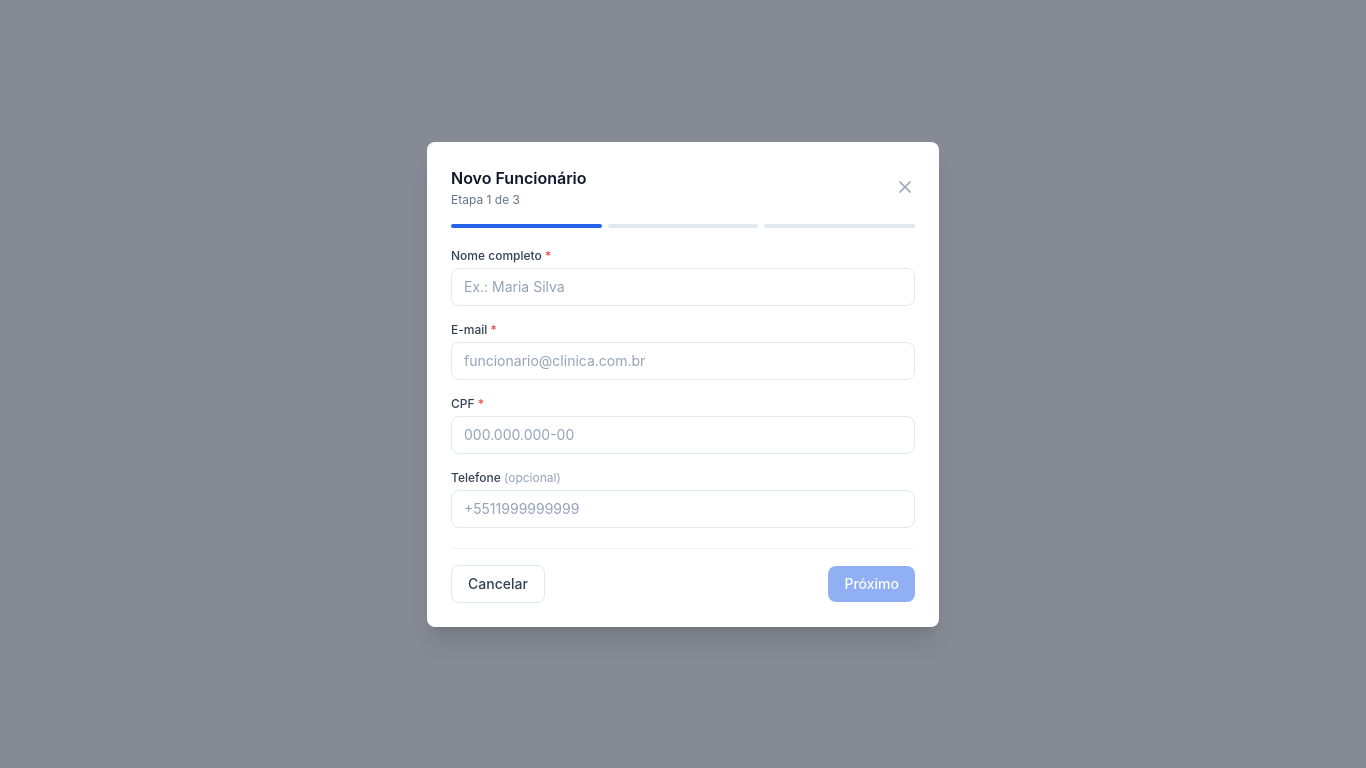
it: AddEmployeeModal › step 2 blocks Próximo with clinical role and missing council
The image size is (1366, 768).
Type "Ana Lima" into the field labelled "Nome completo *" at (683, 286), box x1=451 y1=268 x2=915 y2=306
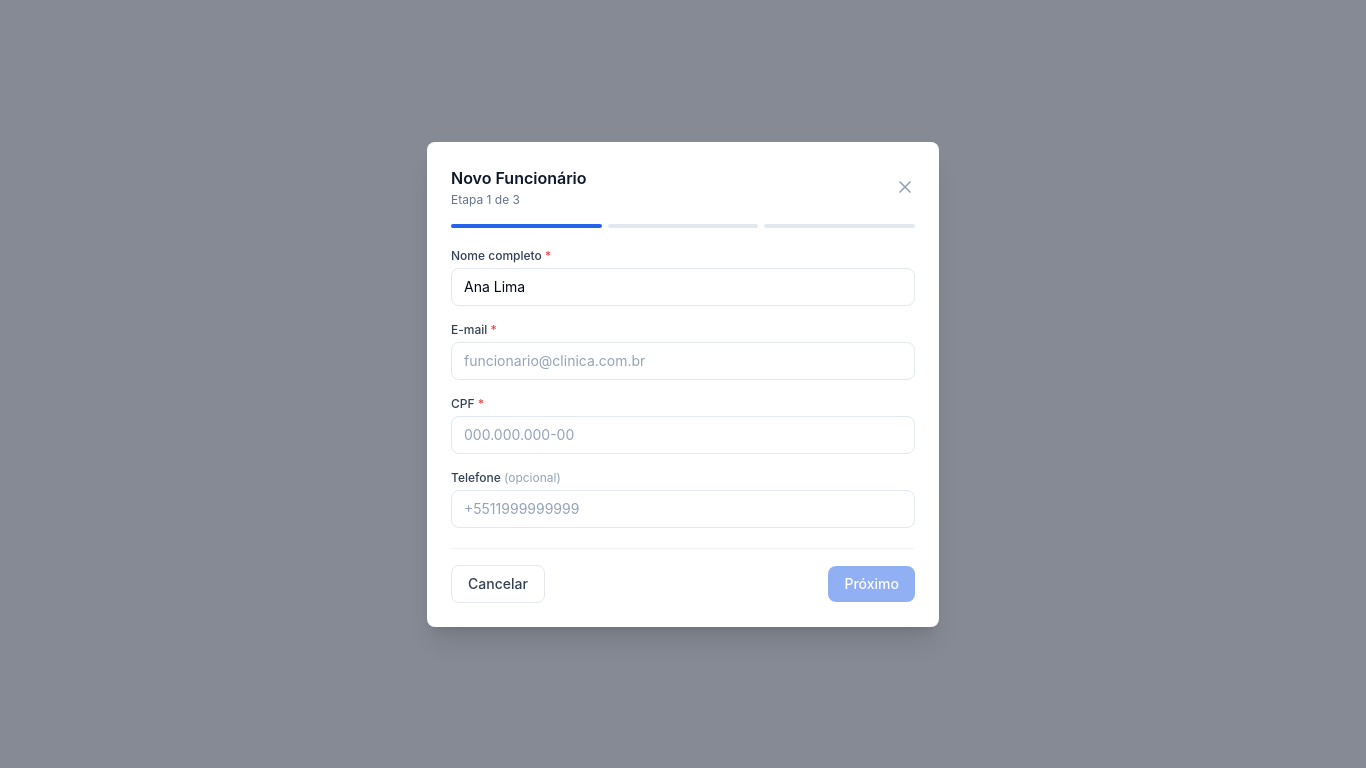
Type "ana@clinica.com.br" into the field labelled "E-mail *" at (683, 360), box x1=451 y1=342 x2=915 y2=380
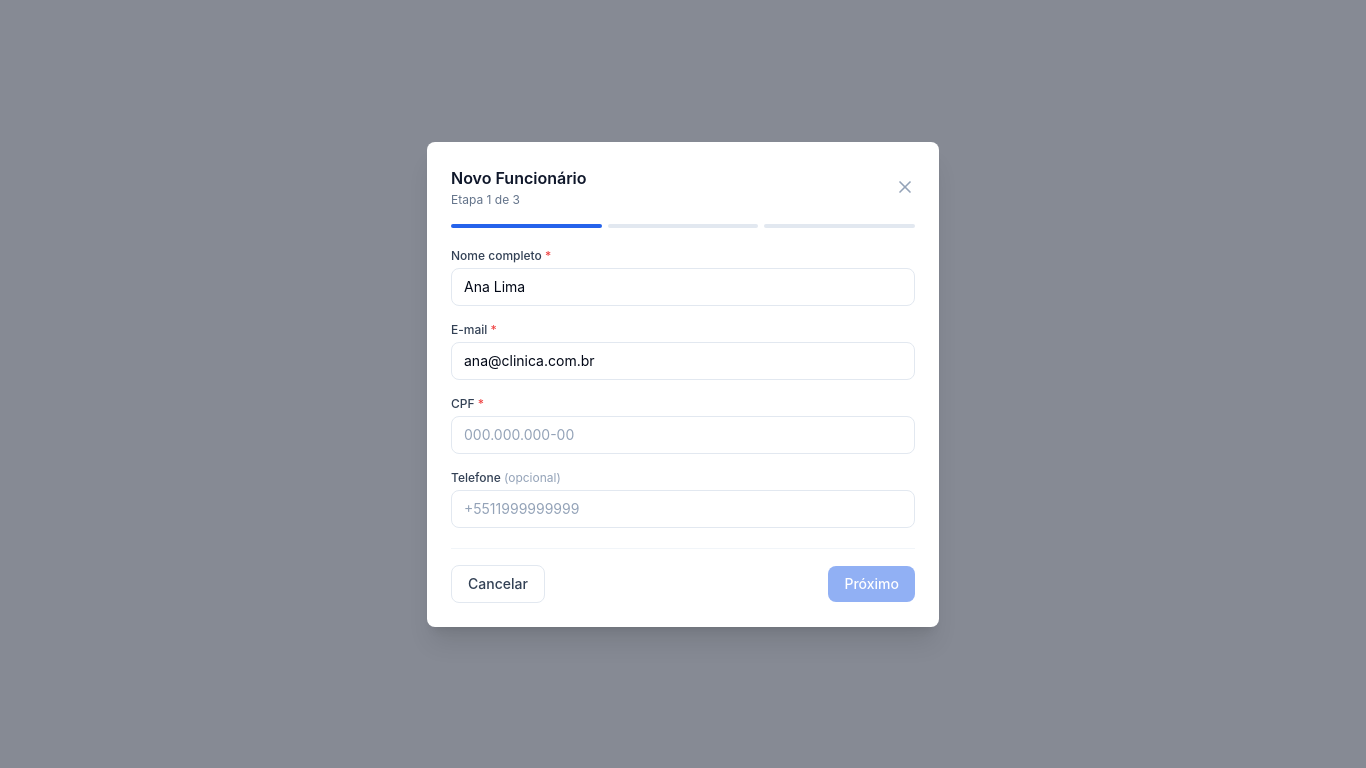
Type "12345678901" into the field labelled "CPF *" at (683, 434), box x1=451 y1=416 x2=915 y2=454
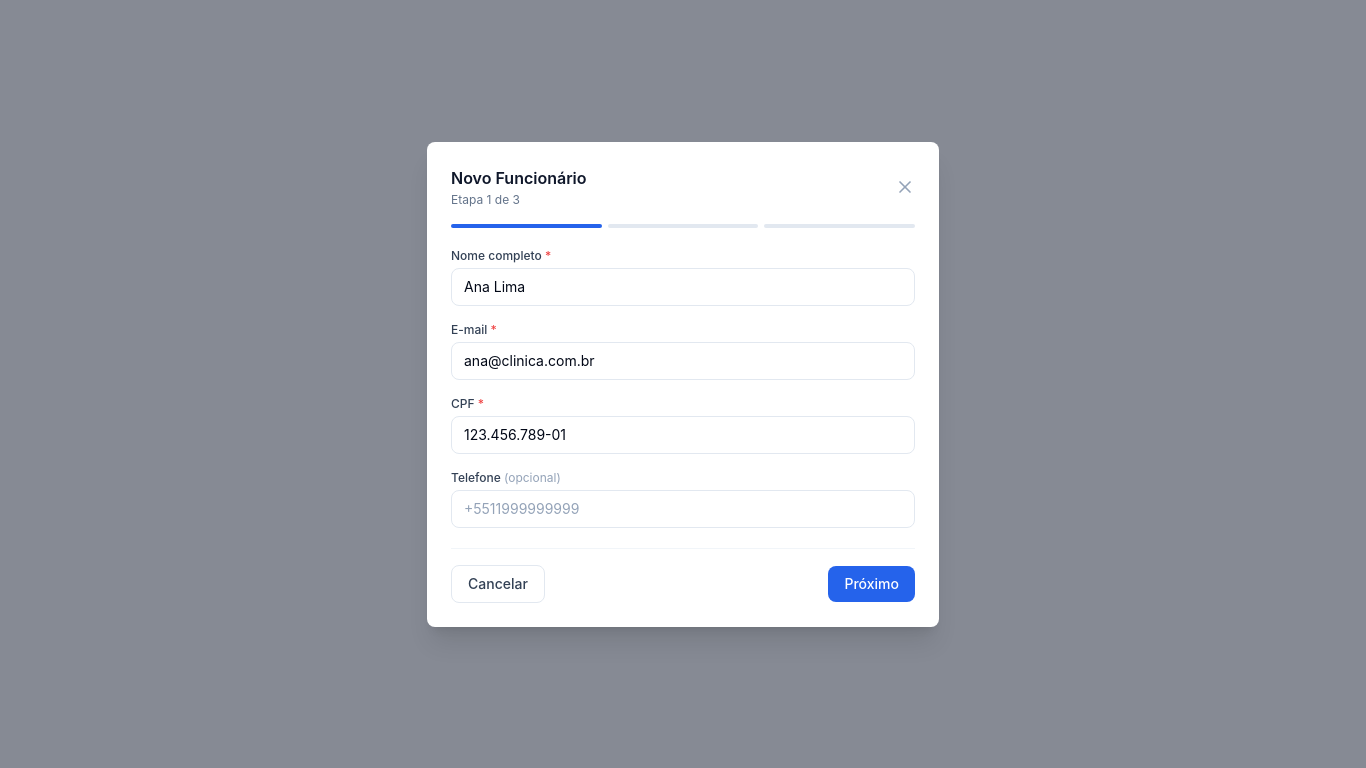
Check: the button "Próximo" is enabled
Click the button "Próximo" at (872, 584), box x1=828 y1=566 x2=915 y2=602
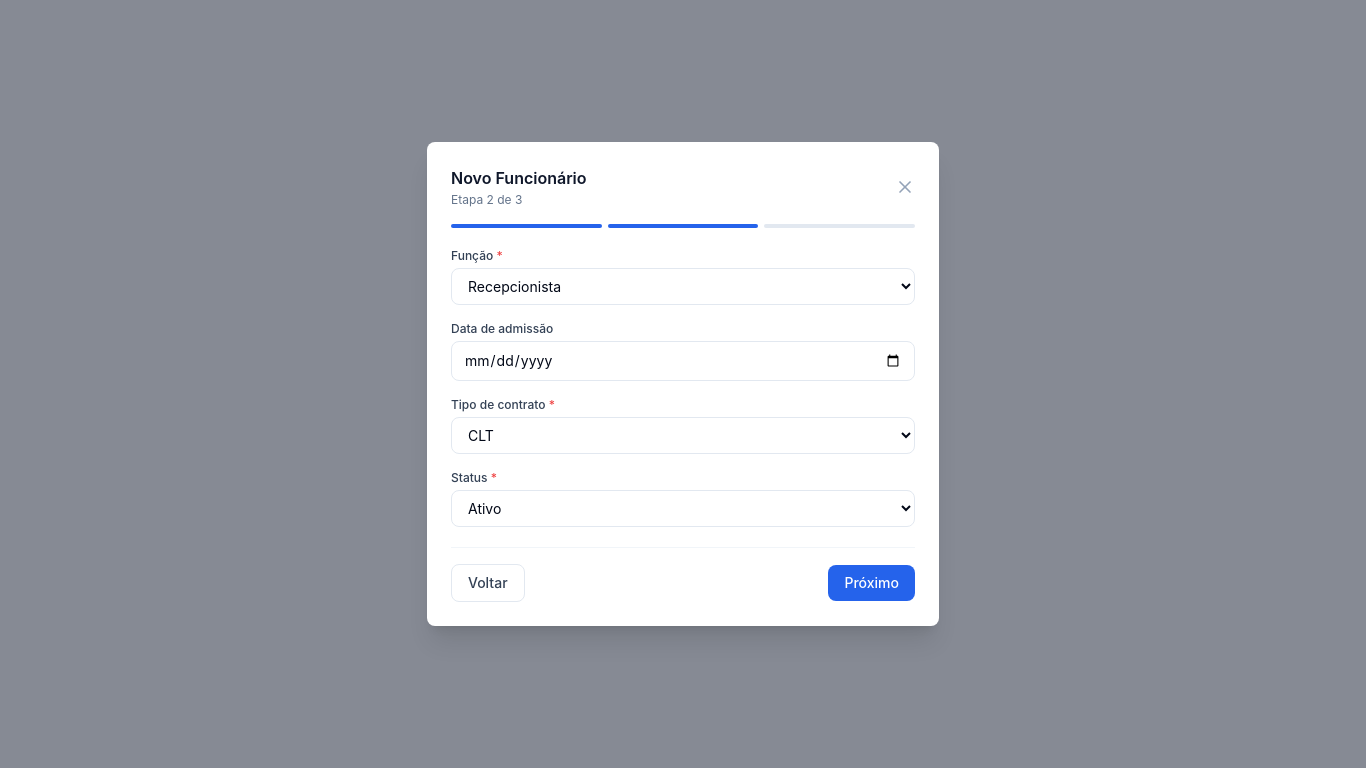
Check: the text "Etapa 2 de 3" is shown, box x1=451 y1=192 x2=522 y2=207
Select "Médico" in the dropdown labelled "Função *" at (683, 286), box x1=451 y1=268 x2=915 y2=305
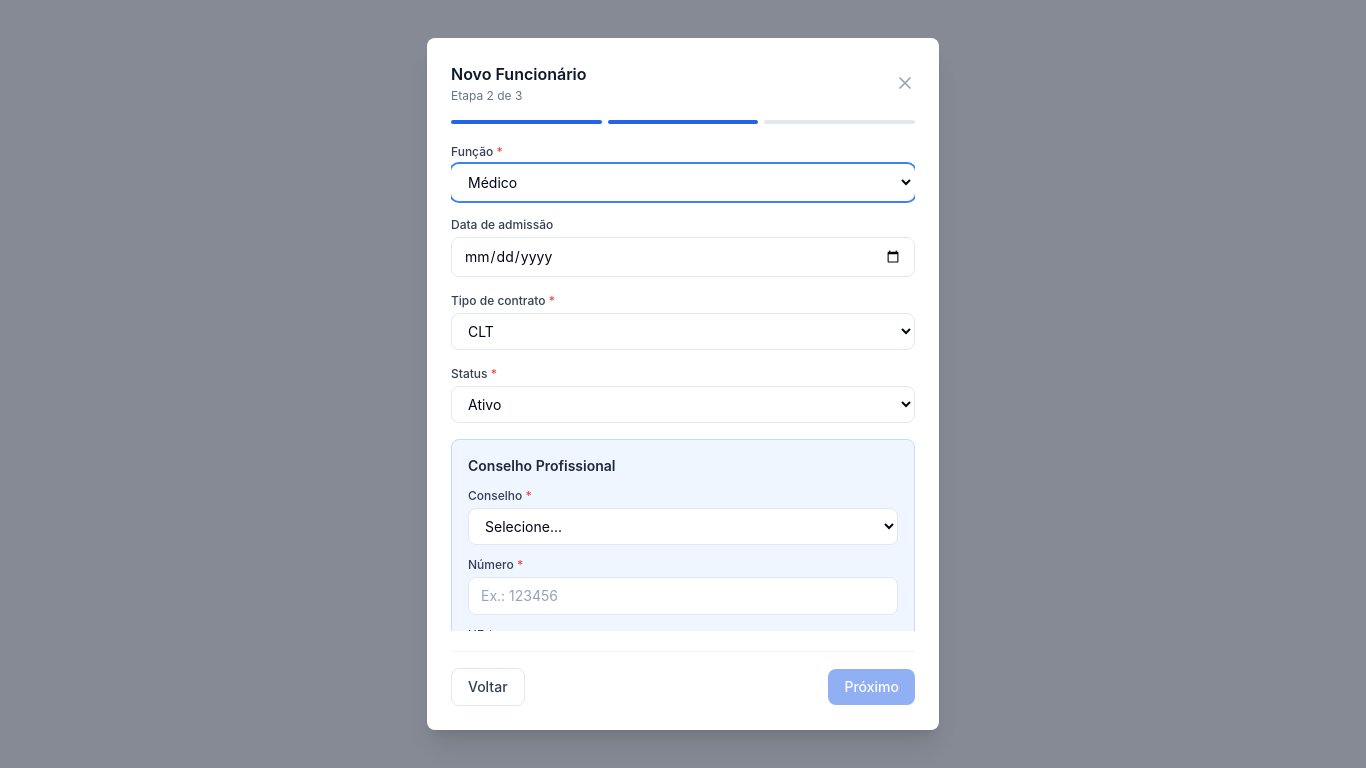
Check: the button "Próximo" is disabled, box x1=828 y1=669 x2=915 y2=705
